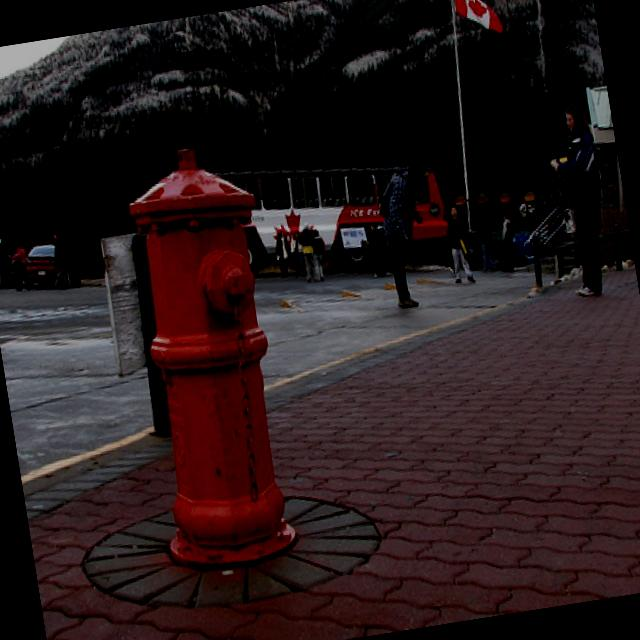Vehicle: (213, 135, 457, 288), (19, 238, 87, 296), (0, 226, 23, 290)
